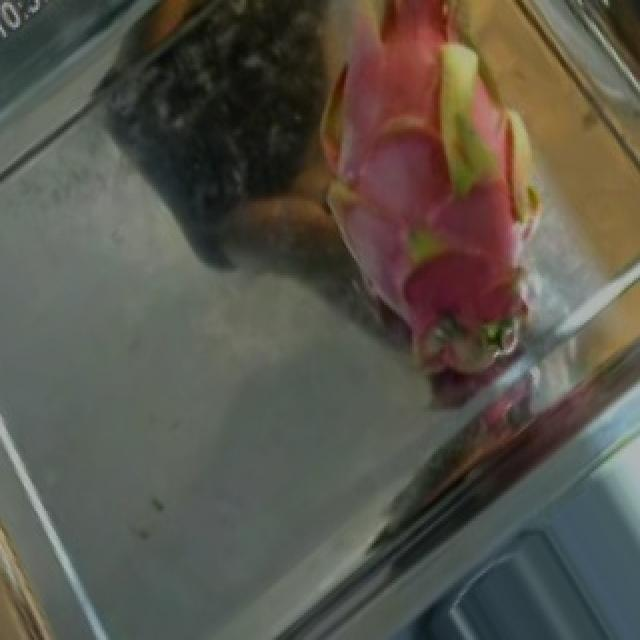fruit: (228, 0, 640, 414)
